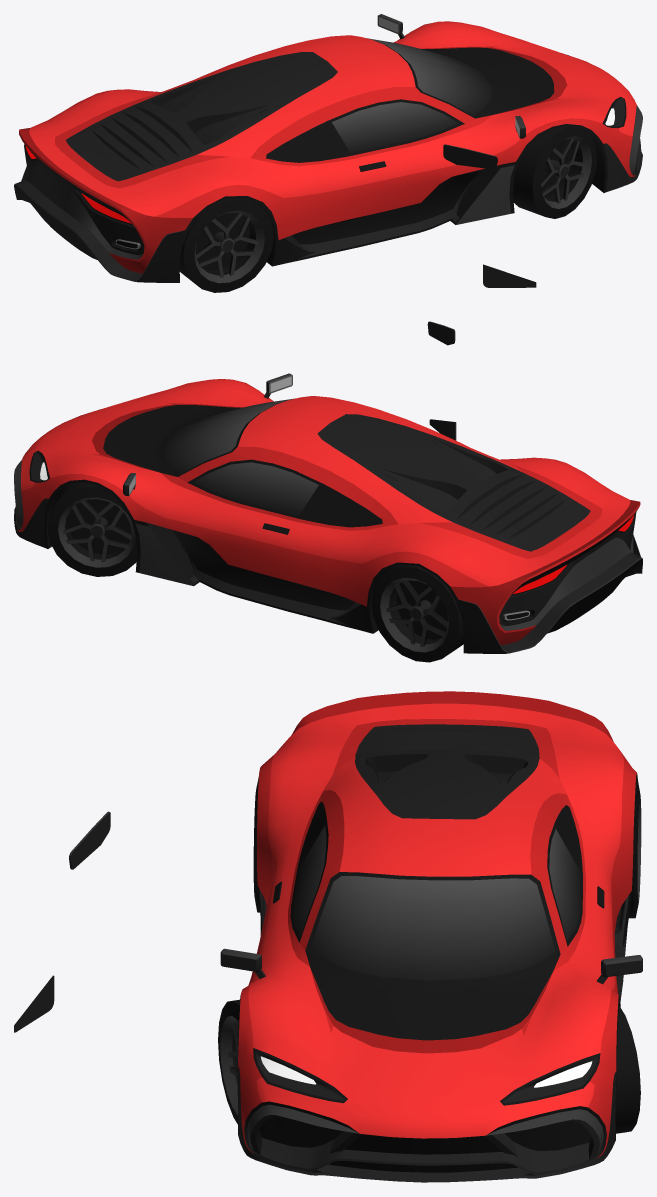
File: Car_044.glb
3 views of the same model, one above another, from view 1: azimuth 30°, elevation 25°; view 2: azimuth 150°, elevation 25°; view 3: azimuth 270°, elevation 25° (orthographic). The views are drawn at different scales.
Visible parts, largest first — view 1: Car_044, wheel_3_Car_044_Wheel_3R, wheel_1_Car_044_Wheel_2R; view 2: Car_044, wheel_2_Car_044_Wheel_3L, wheel_0_Car_044_Wheel_1L; view 3: Car_044, wheel_0_Car_044_Wheel_1L, wheel_1_Car_044_Wheel_2R, wheel_2_Car_044_Wheel_3L.
Boxes of the visible parts, <box> form: Car_044: <box>14,14,642,287</box>; wheel_3_Car_044_Wheel_3R: <box>179,198,273,292</box>; wheel_1_Car_044_Wheel_2R: <box>513,126,596,218</box>; Car_044: <box>14,321,642,653</box>; wheel_2_Car_044_Wheel_3L: <box>371,564,463,662</box>; wheel_0_Car_044_Wheel_1L: <box>47,482,137,576</box>; Car_044: <box>14,691,642,1182</box>; wheel_0_Car_044_Wheel_1L: <box>615,1005,640,1133</box>; wheel_1_Car_044_Wheel_2R: <box>218,999,239,1124</box>; wheel_2_Car_044_Wheel_3L: <box>629,779,641,918</box>.
Size of the model in its own units: 4.86 by 1.21 by 3.37.
2 materials, 2 textured.
